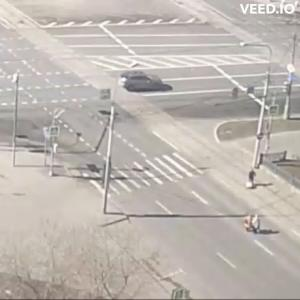car: (116, 70, 166, 94)
